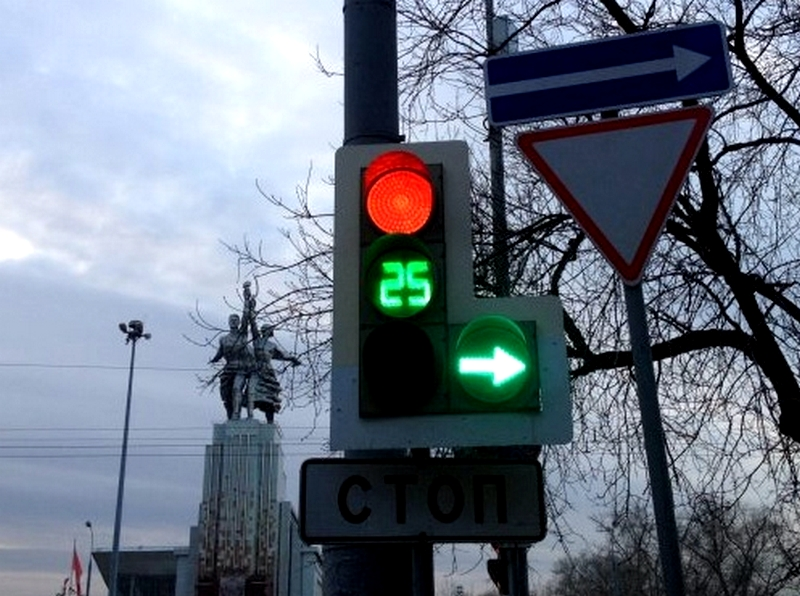tl: (341, 148, 564, 442)
